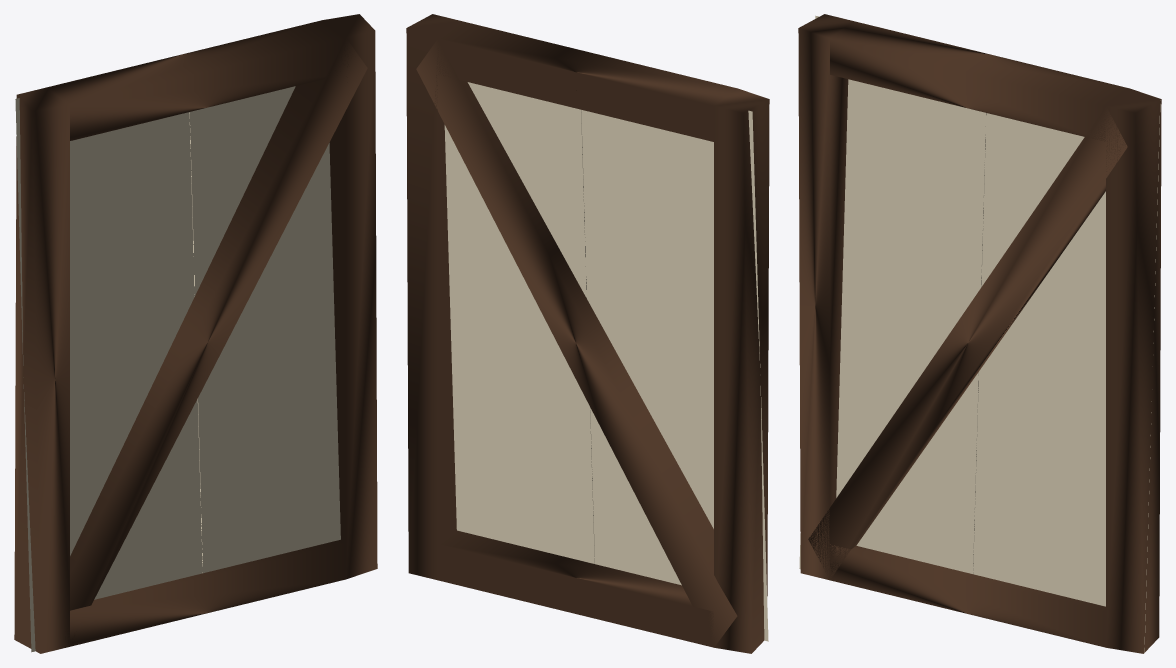
The model's file is wall_plaster_lod1.glb.
3 renders of one model, left to right at view 1: azimuth 30°, elevation 25°; view 2: azimuth 150°, elevation 25°; view 3: azimuth 330°, elevation 25°, orthographic.
Size of the model in its own units: 2 by 3 by 0.24.
